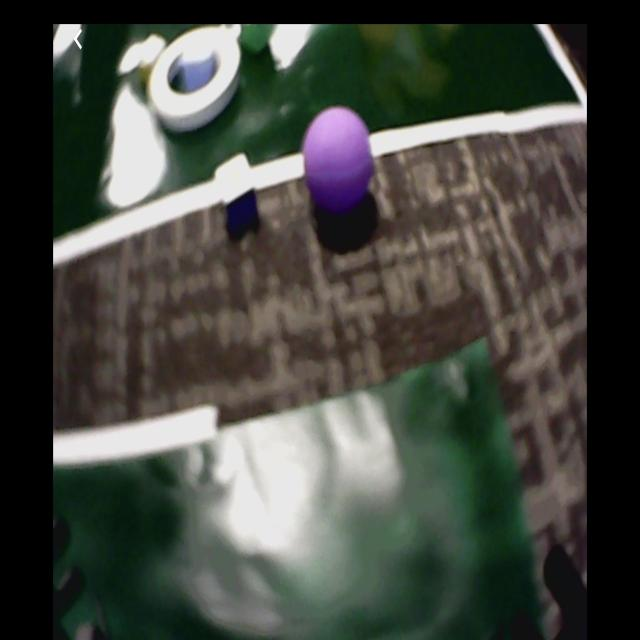ball: (302, 106, 373, 213)
